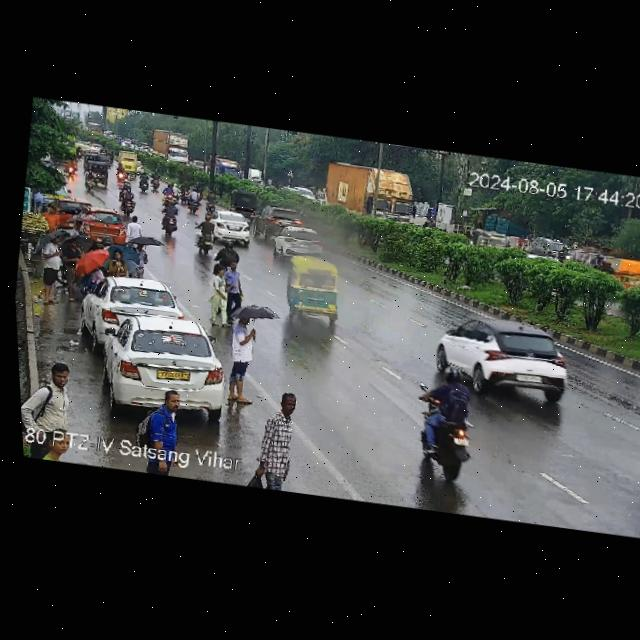car: (77, 306, 241, 421), (432, 320, 590, 410), (81, 271, 193, 339), (42, 197, 135, 247), (283, 253, 349, 323), (271, 223, 332, 259), (202, 209, 258, 244), (464, 227, 521, 253), (261, 205, 311, 228), (223, 188, 263, 216), (82, 158, 114, 187), (114, 150, 145, 174)
motorcycle: (405, 360, 495, 488), (154, 201, 186, 238), (115, 184, 141, 217), (138, 168, 163, 198), (184, 189, 205, 215), (159, 182, 181, 206), (202, 192, 222, 214)
person: (19, 359, 84, 462), (250, 394, 310, 481), (134, 389, 194, 453), (210, 259, 250, 330), (34, 233, 69, 300), (55, 238, 88, 299), (120, 239, 152, 281), (106, 249, 132, 279)
truck: (316, 157, 432, 227), (147, 130, 206, 169), (207, 154, 242, 181)
